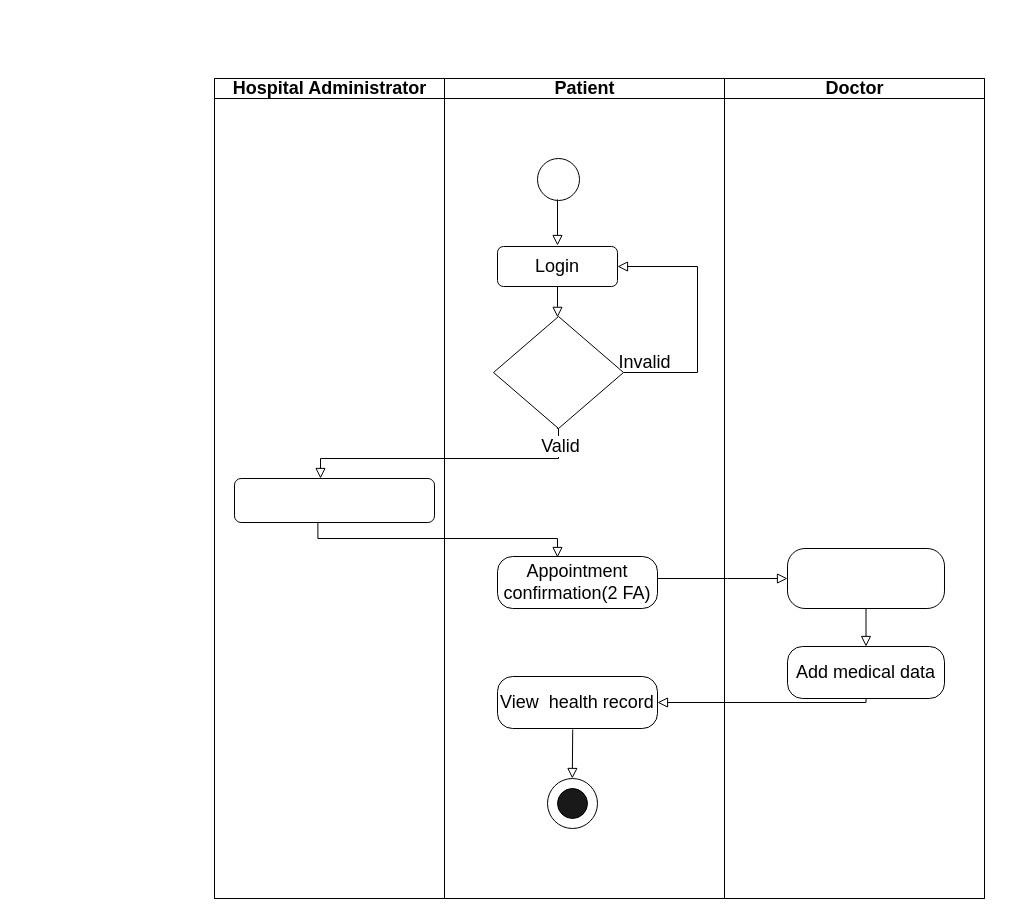
Image size: 1025x916. Some labels were removed from this diagram. Each missing label, with the centre of its shape:
"Authentication" goes at pixel 558 372.
"Take an appointment for patient" goes at pixel 334 500.
"View previous medical record" goes at pixel 865 578.
